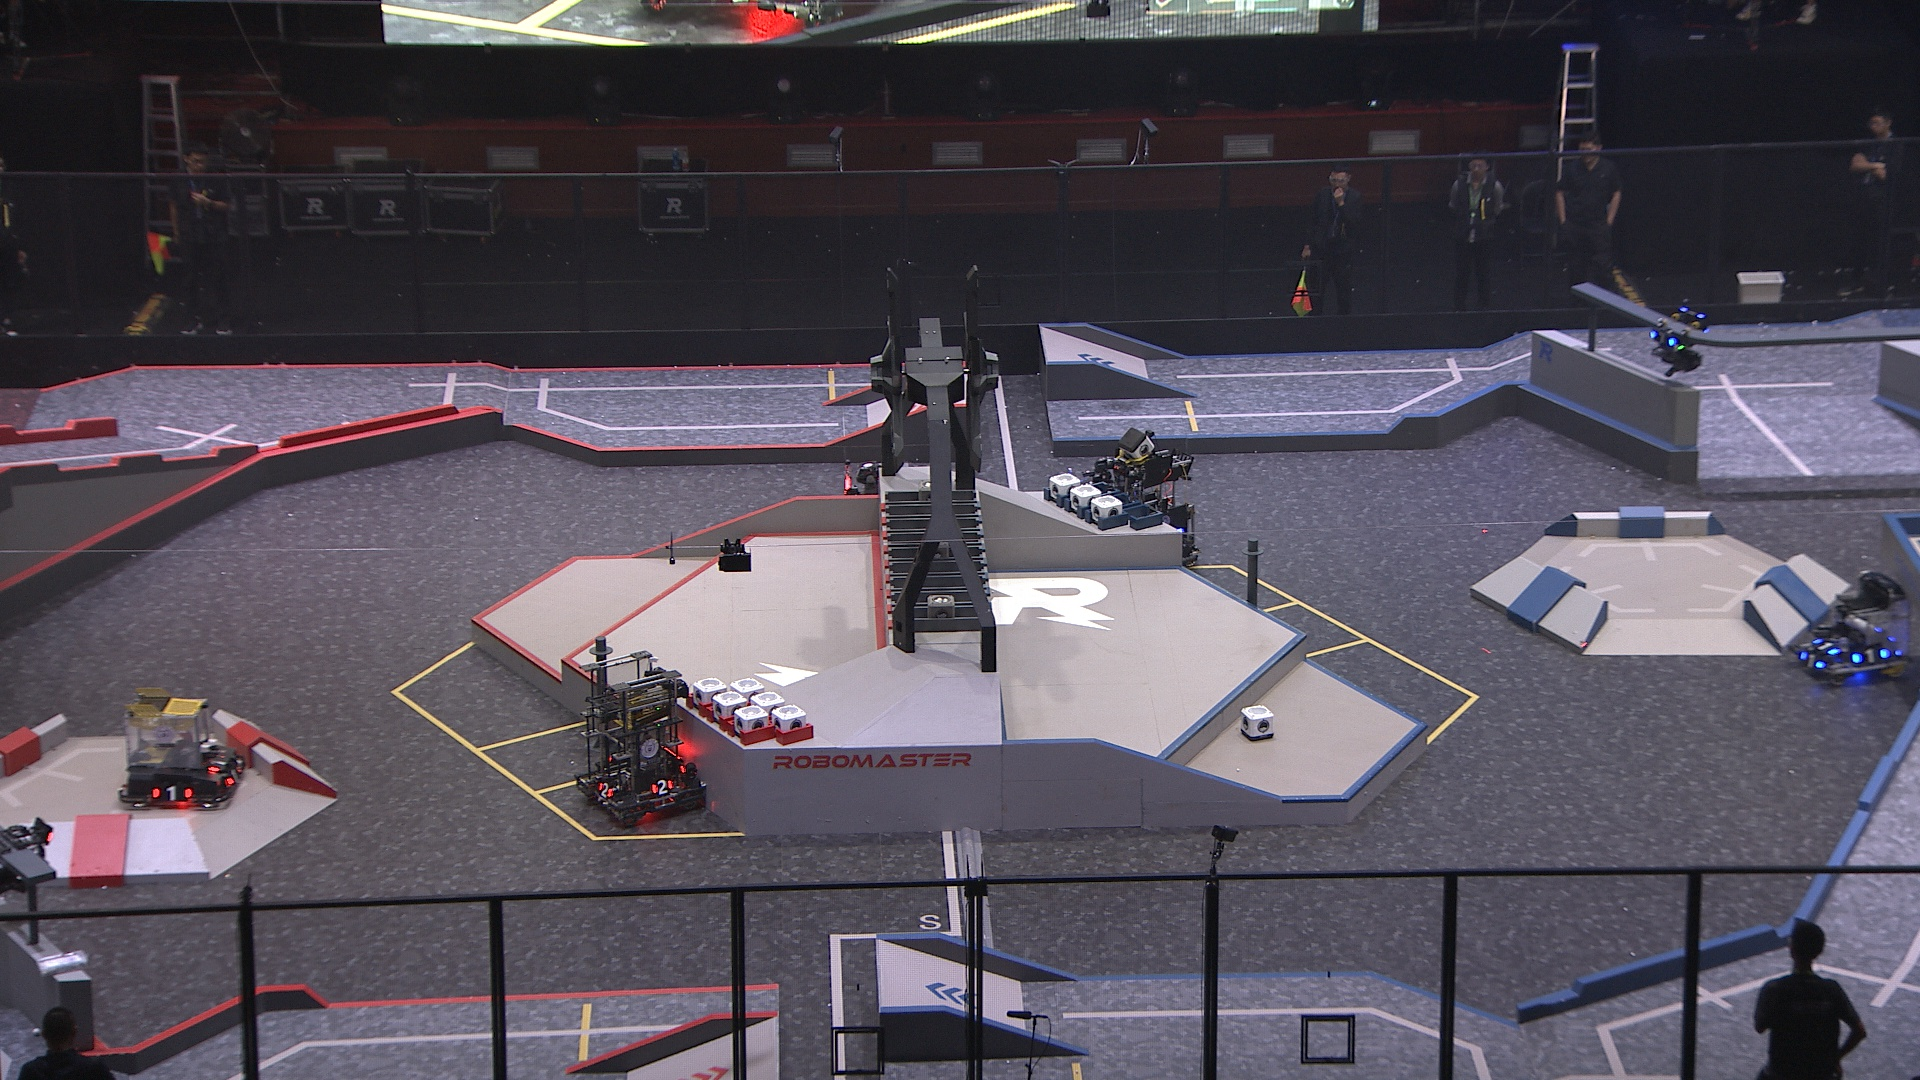armor: (150, 783, 193, 802), (1847, 646, 1890, 665), (1797, 646, 1825, 673), (204, 750, 231, 777), (647, 777, 675, 799), (1648, 327, 1677, 348), (1812, 636, 1841, 655), (223, 765, 245, 789), (595, 779, 615, 800)
car: (571, 647, 704, 825), (117, 683, 253, 812), (1083, 446, 1203, 572), (1787, 570, 1913, 688)
watcher: (1644, 294, 1712, 376)
